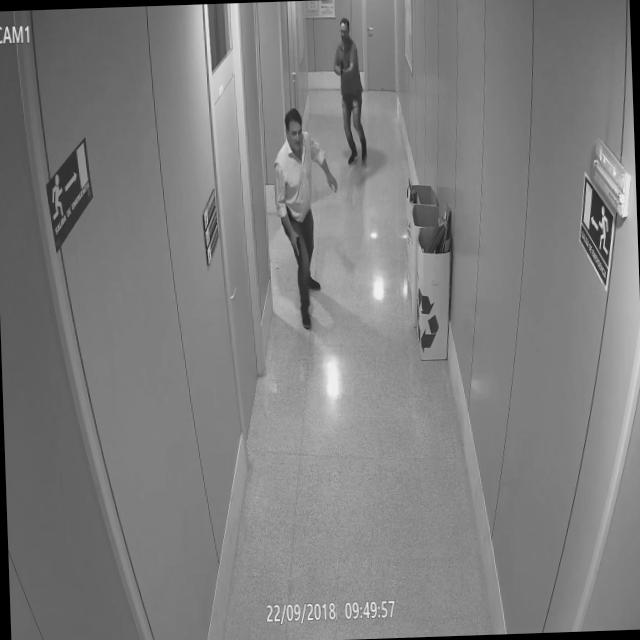gun: (288, 231, 303, 276), (337, 54, 349, 89)
person with a gun: (271, 104, 328, 334), (329, 14, 372, 170)
